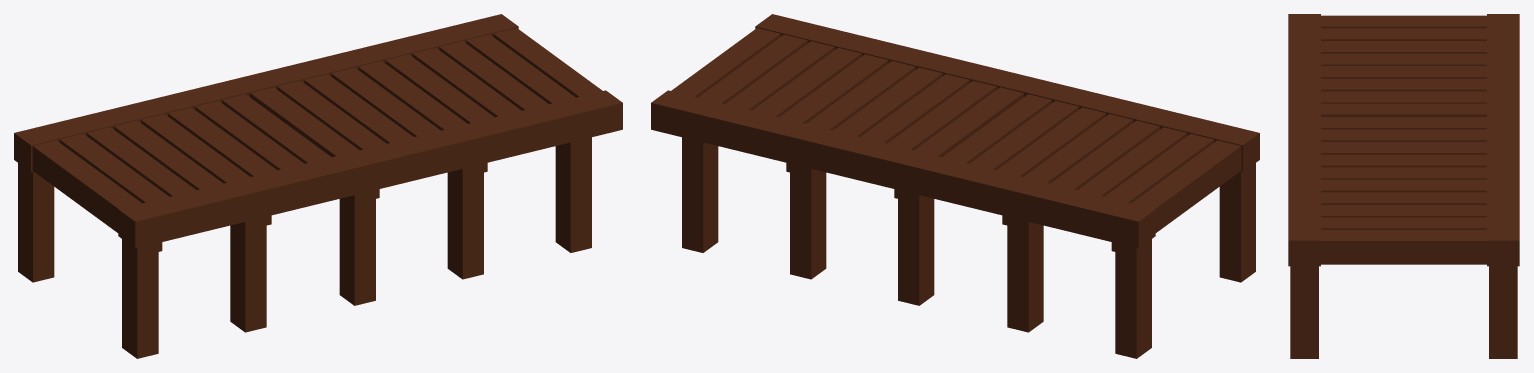
File: pier export.fbx
3 renders of one model, left to right at view 1: azimuth 30°, elevation 25°; view 2: azimuth 150°, elevation 25°; view 3: azimuth 270°, elevation 25°, orthographic. The views are drawn at different scales.
Parts seen in each view (by area): view 1: Box002; view 2: Box002; view 3: Box002.
Boxes of the visible parts, box(x1,y1,x2,y2) form: Box002: box(14, 14, 622, 358); Box002: box(651, 14, 1259, 358); Box002: box(1288, 14, 1519, 358).
Size of the model in its own units: 141 by 38.42 by 60.97.
